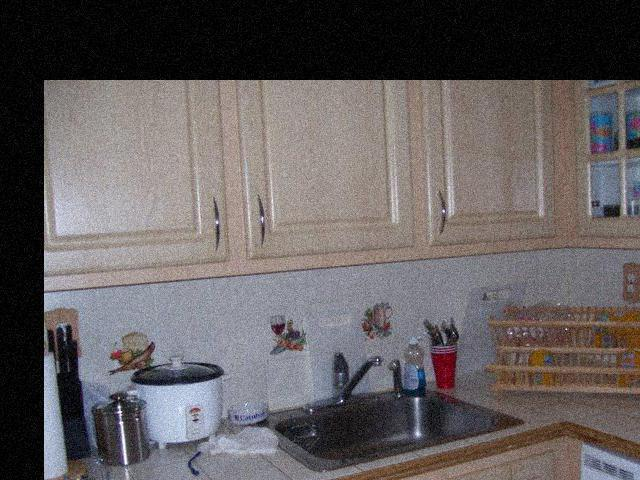Lavaplatos: (246, 334, 532, 476)
